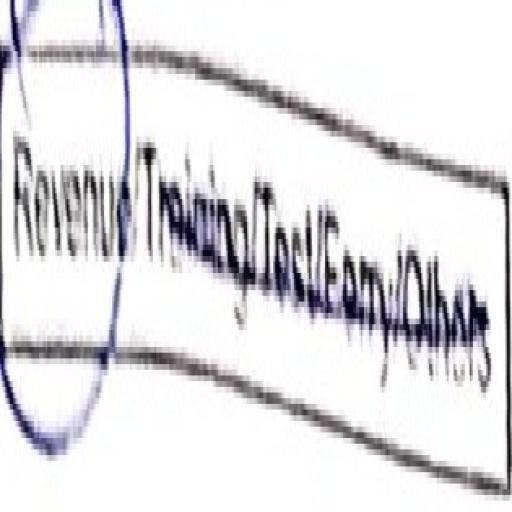check: (0, 0, 132, 489)
